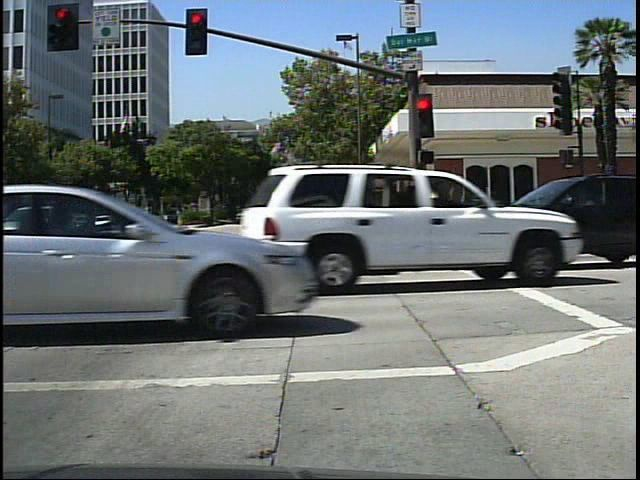person: (288, 203, 302, 221)
